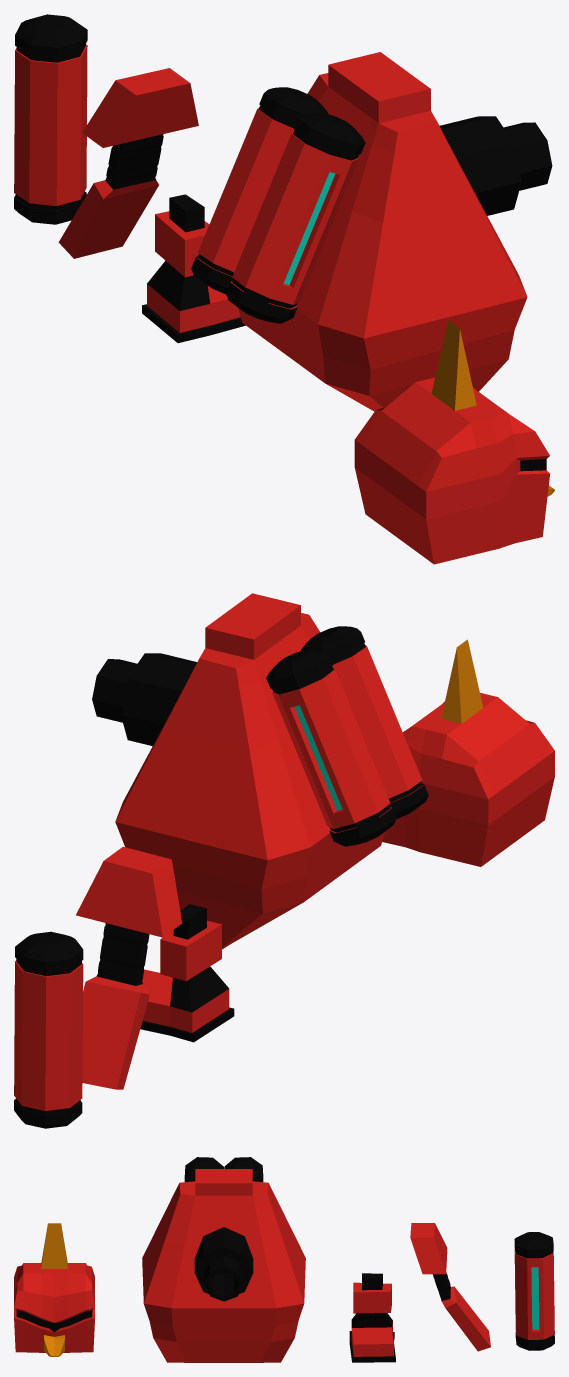
The model's file is Robo_Penguin_Limbs.fbx.
3 views of the same model, one above another, from view 1: azimuth 30°, elevation 25°; view 2: azimuth 150°, elevation 25°; view 3: azimuth 270°, elevation 25° (orthographic). The views are drawn at different scales.
Visible parts, largest first — view 1: Body, Helmet, Tank, Arm, Foot; view 2: Body, Helmet, Arm, Tank, Foot; view 3: Body, Helmet, Tank, Foot, Arm.
Boxes of the visible parts, <box> form: Body: <box>191,52,552,411</box>; Helmet: <box>354,320,554,564</box>; Tank: <box>14,14,87,224</box>; Arm: <box>58,68,198,258</box>; Foot: <box>142,194,245,343</box>; Body: <box>92,593,428,949</box>; Helmet: <box>382,639,554,866</box>; Arm: <box>76,846,182,1089</box>; Tank: <box>14,931,83,1128</box>; Foot: <box>140,904,234,1042</box>; Body: <box>142,1157,305,1362</box>; Helmet: <box>14,1223,94,1356</box>; Tank: <box>514,1232,554,1350</box>; Foot: <box>349,1273,395,1362</box>; Arm: <box>410,1223,490,1351</box>.
Size of the model in its own units: 258 by 251 by 666.
